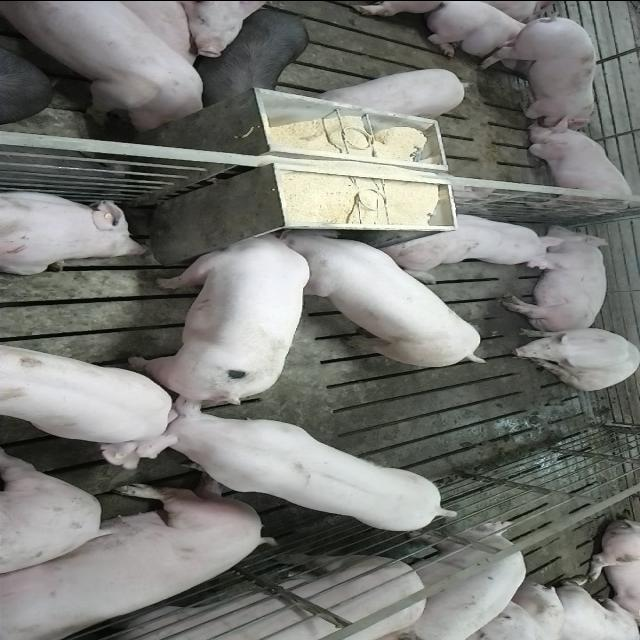Feeding: (127, 222, 310, 396), (278, 229, 494, 371)
Lateral_lying: (0, 481, 274, 637), (500, 222, 612, 332)
Sitting: (516, 125, 640, 218), (503, 324, 638, 390)
Standing: (126, 402, 456, 536), (9, 552, 434, 640), (5, 1, 213, 131), (0, 339, 174, 466), (384, 523, 534, 640), (479, 15, 603, 132), (194, 8, 310, 106), (317, 63, 475, 116)
Sternal_lying: (0, 188, 152, 274), (377, 208, 563, 276), (428, 1, 558, 66)
